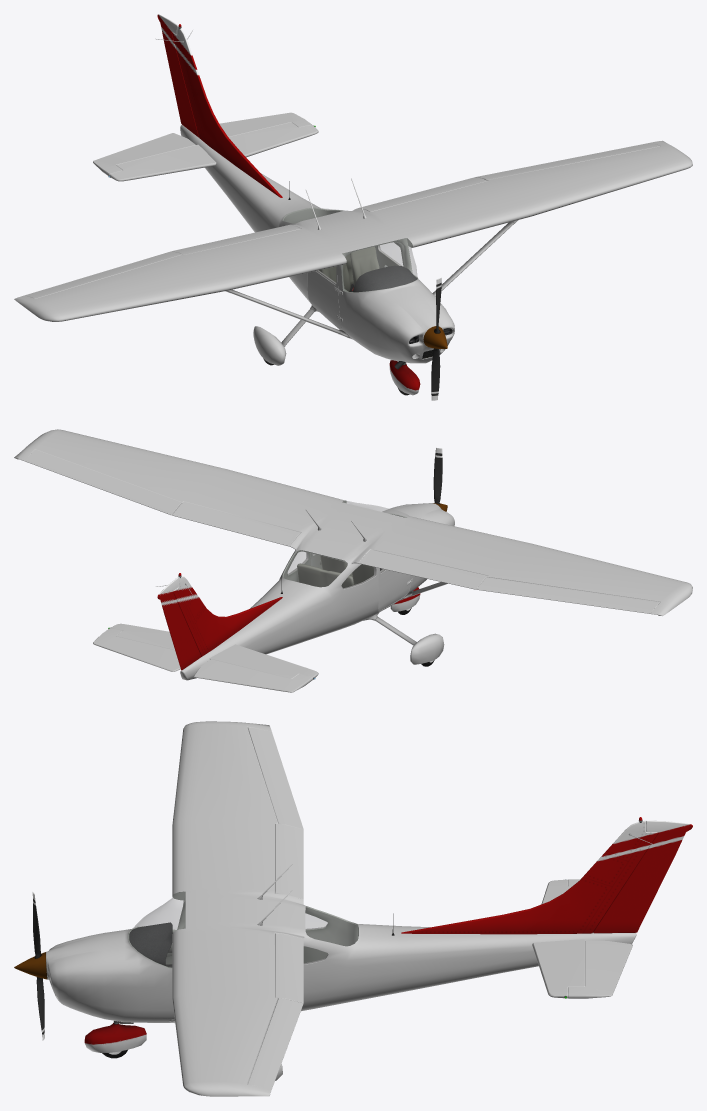
The model's file is single_prop_short.fbx.
The picture shows the model from 3 angles, top to bottom: view 1: azimuth 30°, elevation 25°; view 2: azimuth 150°, elevation 25°; view 3: azimuth 270°, elevation 25°; orthographic projection. The views are drawn at different scales.
Visible parts, largest first — view 1: zessta_281, zessta_281.005, zessta_281.002, zessta_281.006, zessta_281.004, zessta_281.003, zessta_281.010; view 2: zessta_281, zessta_281.002, zessta_281.005, zessta_281.004, zessta_281.003, zessta_281.006, zessta_281.010; view 3: zessta_281, zessta_281.006, zessta_281.002, zessta_281.005, zessta_281.003, zessta_281.004, zessta_281.010.
Boxes of the visible parts, x1,y1,x2,y2 form: zessta_281: (14, 24, 692, 395); zessta_281.005: (93, 112, 311, 175); zessta_281.002: (172, 177, 487, 255); zessta_281.006: (157, 14, 198, 137); zessta_281.004: (25, 251, 181, 298); zessta_281.003: (476, 143, 660, 180); zessta_281.010: (431, 277, 441, 400); zessta_281: (14, 429, 692, 680); zessta_281.002: (172, 501, 487, 589); zessta_281.005: (93, 628, 312, 692); zessta_281.004: (476, 577, 659, 613); zessta_281.003: (25, 449, 181, 515); zessta_281.006: (157, 577, 201, 670); zessta_281.010: (433, 447, 442, 504); zessta_281: (46, 721, 657, 1096); zessta_281.006: (593, 820, 692, 933); zessta_281.002: (275, 823, 303, 1003); zessta_281.005: (568, 879, 632, 998); zessta_281.003: (247, 998, 303, 1088); zessta_281.004: (247, 727, 303, 829); zessta_281.010: (32, 892, 44, 1040).
Size of the model in its own units: 1267 by 383 by 980.
